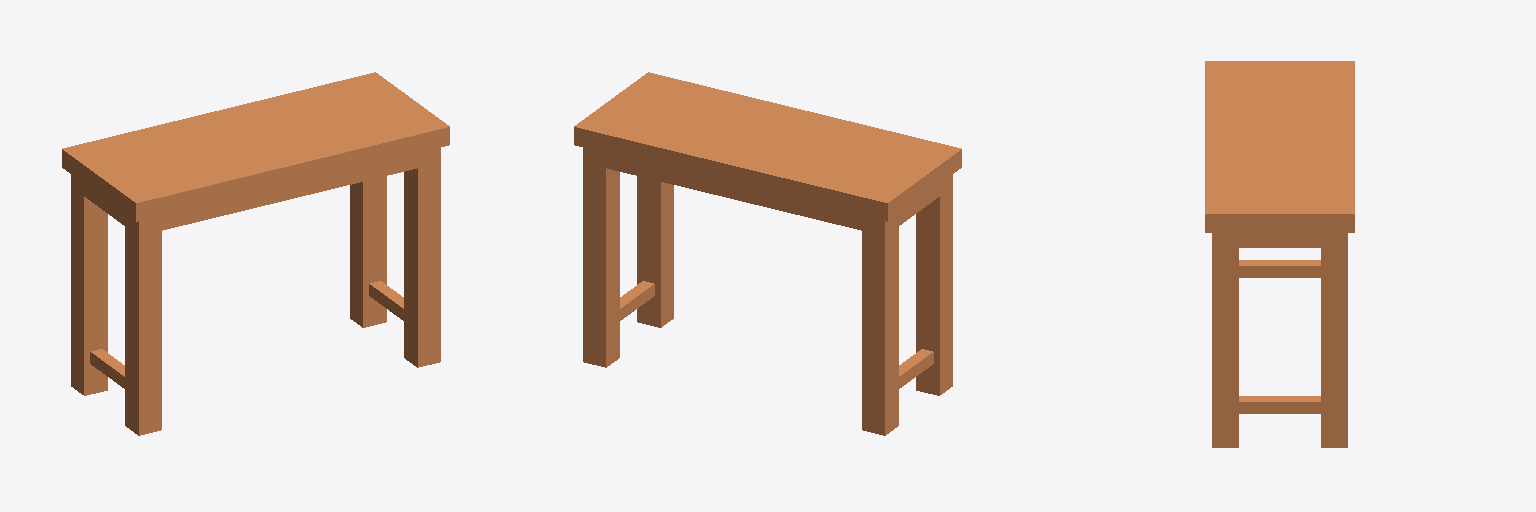
The model's file is sideTable.obj.
The picture shows the model from 3 angles: view 1: azimuth 30°, elevation 25°; view 2: azimuth 150°, elevation 25°; view 3: azimuth 270°, elevation 25°; orthographic projection.
Visible parts, largest first — view 1: sideTable; view 2: sideTable; view 3: sideTable.
Part boxes in pixels (x1,y1,x2,y2): sideTable: (62,72,449,435); sideTable: (574,72,961,435); sideTable: (1205,61,1354,447).
Bounding box in the file's own units: 0.5345 × 0.3844 × 0.22.